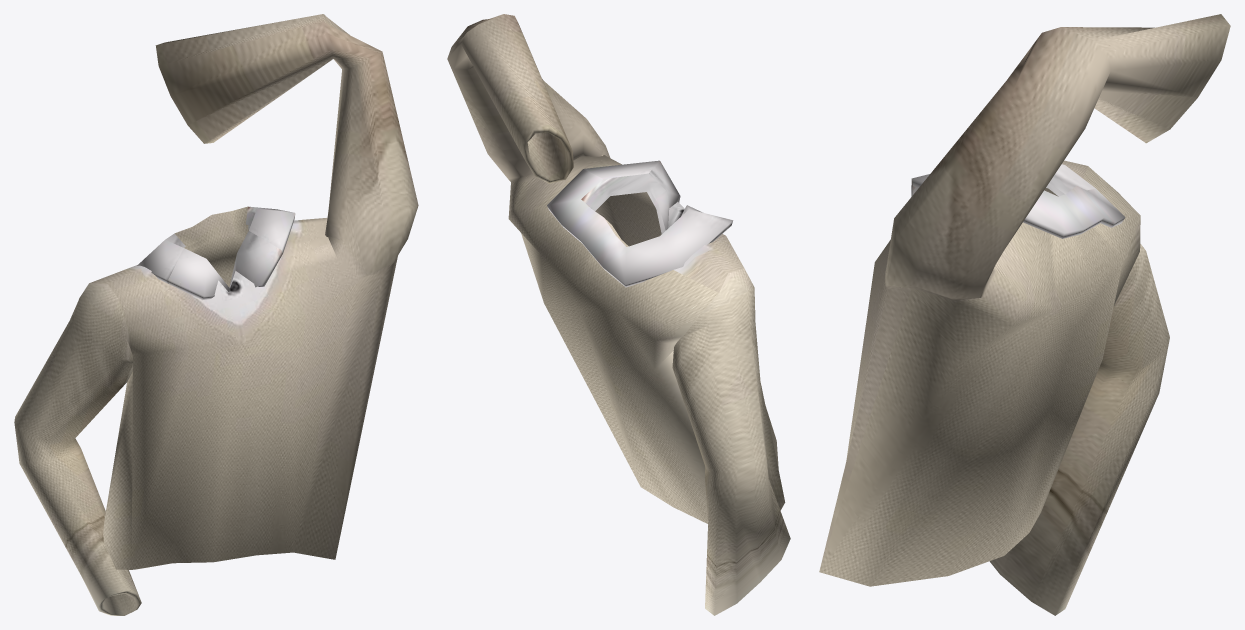
File: m-top5.fbx
The picture shows the model from 3 angles, left to right: view 1: azimuth 30°, elevation 25°; view 2: azimuth 150°, elevation 25°; view 3: azimuth 270°, elevation 25°; orthographic projection. The views are drawn at different scales.
Visible parts, largest first — view 1: M.Top.Long.003; view 2: M.Top.Long.003; view 3: M.Top.Long.003.
Boxes of the visible parts, bbox=[...] form: M.Top.Long.003: bbox=[14, 14, 418, 615]; M.Top.Long.003: bbox=[447, 14, 790, 615]; M.Top.Long.003: bbox=[819, 14, 1230, 615].
Size of the model in its own units: 485 by 760 by 395.
